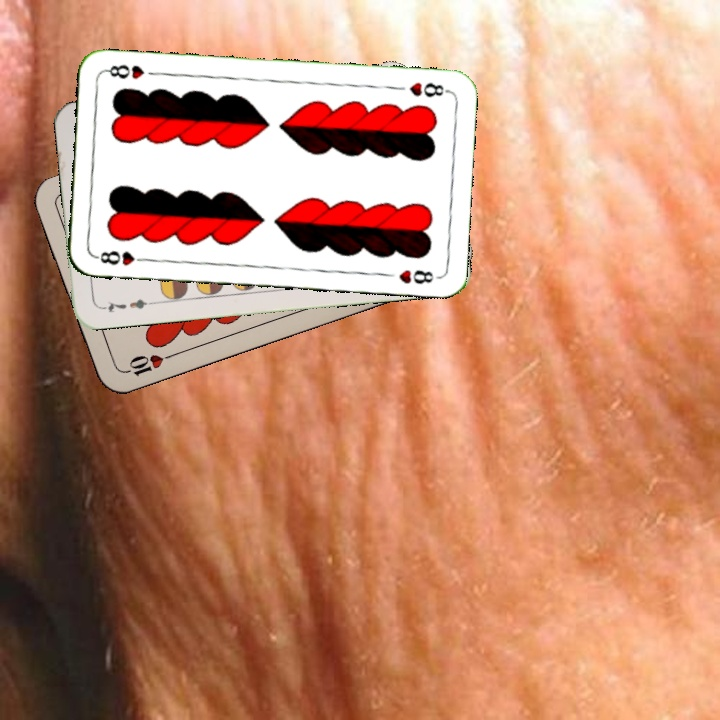E7: (97, 294, 156, 315)
H10: (119, 349, 176, 379)
H8: (92, 247, 151, 268), (405, 78, 451, 100)
